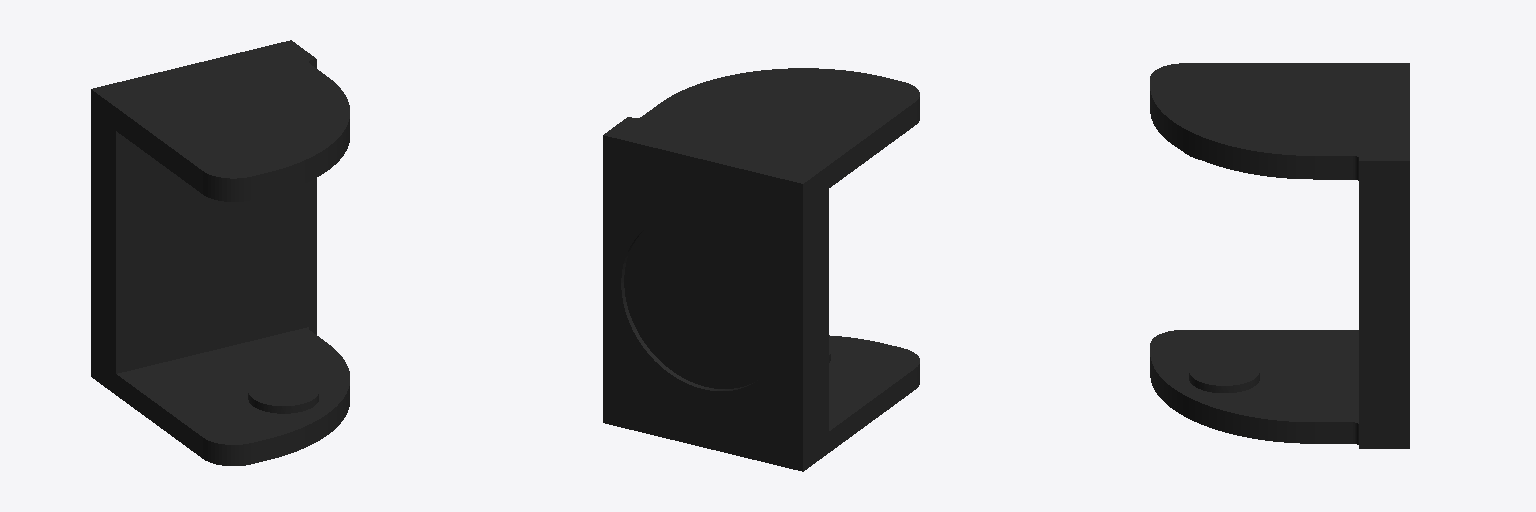
3 views of the same model, side by side, from view 1: azimuth 30°, elevation 25°; view 2: azimuth 150°, elevation 25°; view 3: azimuth 270°, elevation 25° (orthographic).
Parts seen in each view (by area): view 1: link_0.0; view 2: link_0.0; view 3: link_0.0.
Part boxes in pixels (x1,y1,x2,y2): link_0.0: (91, 40, 349, 465); link_0.0: (603, 68, 919, 471); link_0.0: (1150, 63, 1409, 448).
Size of the model in its own units: 0.0196 by 0.0269 by 0.022.